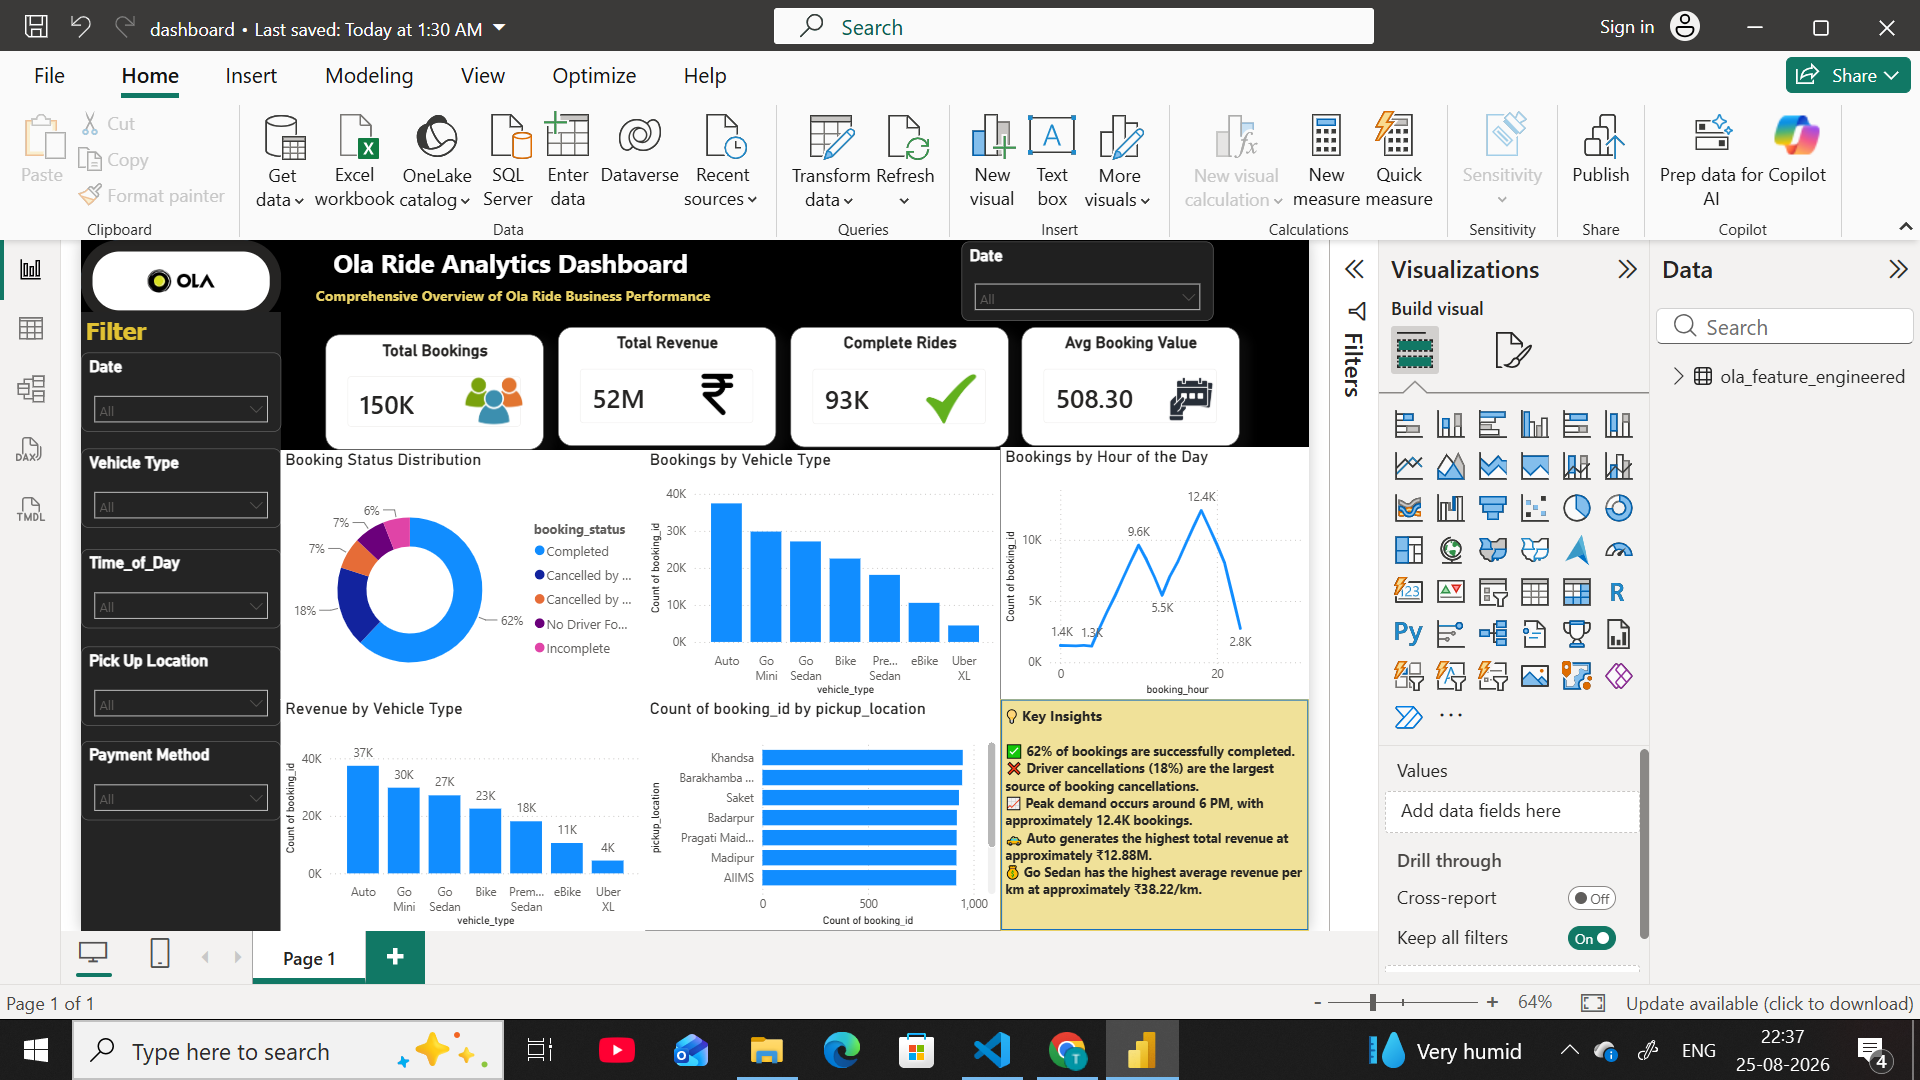

Layout of this report page (visuals, bound fields, positions):
{"tool":"powerbi","page":{"name":"Page 1","canvas":[1280,720],"ordinal":0},"visuals":[{"type":"shape","box":[0,0,208.3,85],"z":0},{"type":"cardVisual","title":"Total Bookings","fields":{"Data":["CountNonNull(ola_feature_engineered.booking_id)"]},"box":[255,98.8,227.1,120],"z":0,"group":"g1"},{"type":"image","box":[0,0,208.8,85],"z":1000},{"type":"image","box":[377.9,140.2,104.3,57.9],"z":1000,"group":"g1"},{"type":"shape","box":[0,75,208.3,645],"z":2000},{"type":"textbox","box":[0,75.7,208.6,44.3],"z":3000},{"type":"slicer","title":"Date","fields":{"Values":["ola_feature_engineered.date"]},"box":[0,117.1,208.6,82.9],"z":4000},{"type":"textbox","box":[254.3,0,385.7,60],"z":5000},{"type":"textbox","box":[227.1,42.9,447.1,30],"z":6000},{"type":"slicer","title":"Pick Up Location","fields":{"Values":["ola_feature_engineered.pickup_location"]},"box":[0,422.9,208.6,82.9],"z":7000},{"type":"slicer","title":"Time_of_Day","fields":{"Values":["ola_feature_engineered.time_of_day"]},"box":[0,321.4,208.6,82.9],"z":8000},{"type":"slicer","title":"Vehicle Type","fields":{"Values":["ola_feature_engineered.vehicle_type"]},"box":[0,217.1,208.6,82.9],"z":9000},{"type":"slicer","title":"Payment Method","fields":{"Values":["ola_feature_engineered.payment_method"]},"box":[0,521.4,208.6,82.9],"z":10000},{"type":"slicer","title":"Date","fields":{"Values":["ola_feature_engineered.date"]},"box":[914.3,1.4,262.9,82.9],"z":11000},{"type":"cardVisual","title":"Total Revenue","fields":{"Data":["Sum(ola_feature_engineered.booking_value)"]},"box":[497.5,90,227.1,124.3],"z":12000,"group":"g2"},{"type":"cardVisual","title":"Avg Booking Value ","fields":{"Data":["Avg(ola_feature_engineered.booking_value)"]},"box":[980,90,227.1,124.3],"z":13000,"group":"g4"},{"type":"cardVisual","title":"Complete Rides","fields":{"Data":["Sum(ola_feature_engineered.is_completed)"]},"box":[740,90,227.5,125],"z":14000,"group":"g3"},{"type":"group","id":"g1","title":"Group 1","box":[255,98.8,227.5,120],"z":15000},{"type":"image","box":[627.5,131.4,72.9,55.7],"z":16000,"group":"g2"},{"type":"image","box":[870,136.4,75.7,55.7],"z":17000,"group":"g3"},{"type":"image","box":[1115.7,131.4,81.4,65.7],"z":18000,"group":"g4"},{"type":"group","id":"g2","title":"Group 2","box":[497.5,90,225,125],"z":18001},{"type":"group","id":"g3","title":"Group 3","box":[740,90,227.5,125],"z":18002},{"type":"group","id":"g4","title":"Group 4","box":[980,90,227.5,125],"z":18003},{"type":"donutChart","title":"Booking Status Distribution","fields":{"Category":["ola_feature_engineered.booking_status"],"Y":["CountNonNull(ola_feature_engineered.booking_id)"]},"box":[208.3,218.3,380,260],"z":18004},{"type":"clusteredColumnChart","title":"Bookings by Vehicle Type","fields":{"Category":["ola_feature_engineered.vehicle_type"],"Y":["CountNonNull(ola_feature_engineered.booking_id)"]},"box":[588.3,218.3,370,260],"z":18005},{"type":"lineChart","title":"Bookings by Hour of the Day","fields":{"Y":["CountNonNull(ola_feature_engineered.booking_id)"],"Category":["ola_feature_engineered.booking_hour"]},"box":[958.3,215,321.7,263.3],"z":18006},{"type":"clusteredColumnChart","title":"Revenue by Vehicle Type","fields":{"Category":["ola_feature_engineered.vehicle_type"],"Y":["CountNonNull(ola_feature_engineered.booking_id)"]},"box":[208.3,478.3,380,241.7],"z":18007},{"type":"clusteredBarChart","fields":{"Category":["ola_feature_engineered.pickup_location"],"Y":["CountNonNull(ola_feature_engineered.booking_id)"]},"box":[587.5,478.8,370,241.2],"z":18010},{"type":"shape","box":[958,478,322,242],"z":18011},{"type":"textbox","box":[958,480,322,240],"z":18012}]}

Visuals, with their boxes on the page's 1280x720 design canvas (x1, y1, x2, y2). These are canvas units, not pixel positions in the 1920x1080 screenshot, which may show the page scaled, cropped or inside an application window:
shape: crop(0, 0, 208, 85)
"Total Bookings" cardVisual: crop(255, 99, 482, 219)
image: crop(0, 0, 209, 85)
image: crop(378, 140, 482, 198)
shape: crop(0, 75, 208, 720)
textbox: crop(0, 76, 209, 120)
"Date" slicer: crop(0, 117, 209, 200)
textbox: crop(254, 0, 640, 60)
textbox: crop(227, 43, 674, 73)
"Pick Up Location" slicer: crop(0, 423, 209, 506)
"Time_of_Day" slicer: crop(0, 321, 209, 404)
"Vehicle Type" slicer: crop(0, 217, 209, 300)
"Payment Method" slicer: crop(0, 521, 209, 604)
"Date" slicer: crop(914, 1, 1177, 84)
"Total Revenue" cardVisual: crop(498, 90, 725, 214)
"Avg Booking Value " cardVisual: crop(980, 90, 1207, 214)
"Complete Rides" cardVisual: crop(740, 90, 968, 215)
"Group 1" group: crop(255, 99, 482, 219)
image: crop(628, 131, 700, 187)
image: crop(870, 136, 946, 192)
image: crop(1116, 131, 1197, 197)
"Group 2" group: crop(498, 90, 722, 215)
"Group 3" group: crop(740, 90, 968, 215)
"Group 4" group: crop(980, 90, 1208, 215)
"Booking Status Distribution" donutChart: crop(208, 218, 588, 478)
"Bookings by Vehicle Type" clusteredColumnChart: crop(588, 218, 958, 478)
"Bookings by Hour of the Day" lineChart: crop(958, 215, 1280, 478)
"Revenue by Vehicle Type" clusteredColumnChart: crop(208, 478, 588, 720)
clusteredBarChart - ola_feature_engineered.pickup_location x CountNonNull(ola_feature_engineered.booking_id): crop(588, 479, 958, 720)
shape: crop(958, 478, 1280, 720)
textbox: crop(958, 480, 1280, 720)
